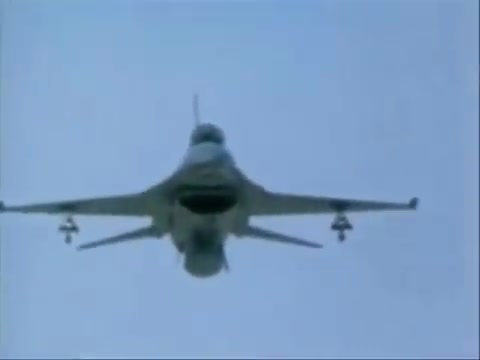aeroplane: (3, 90, 421, 281)
